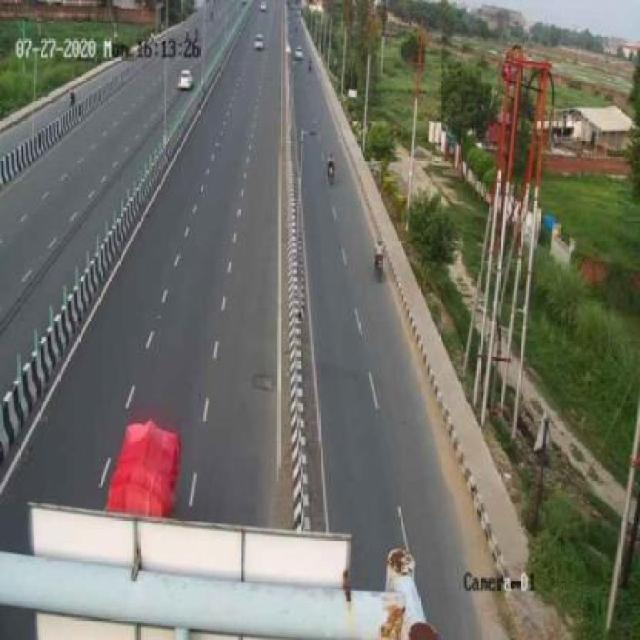car: (177, 66, 198, 94)
